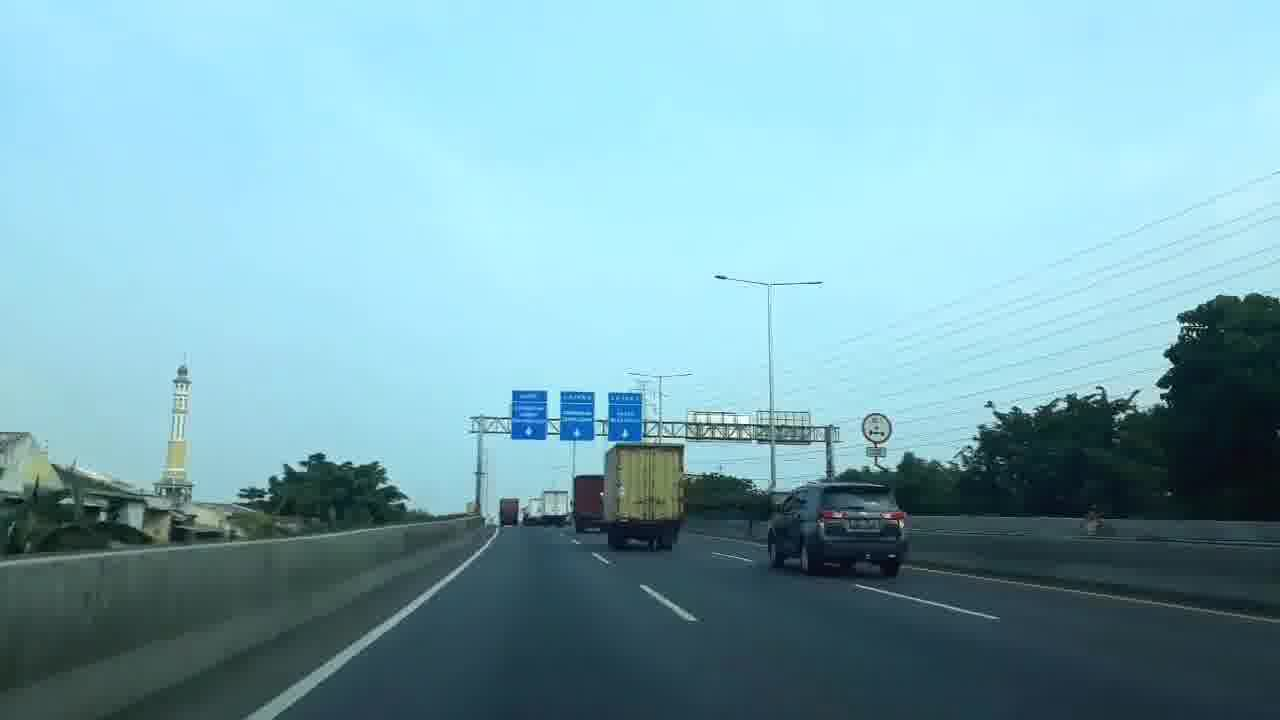plate_positive: (848, 519, 879, 530)
